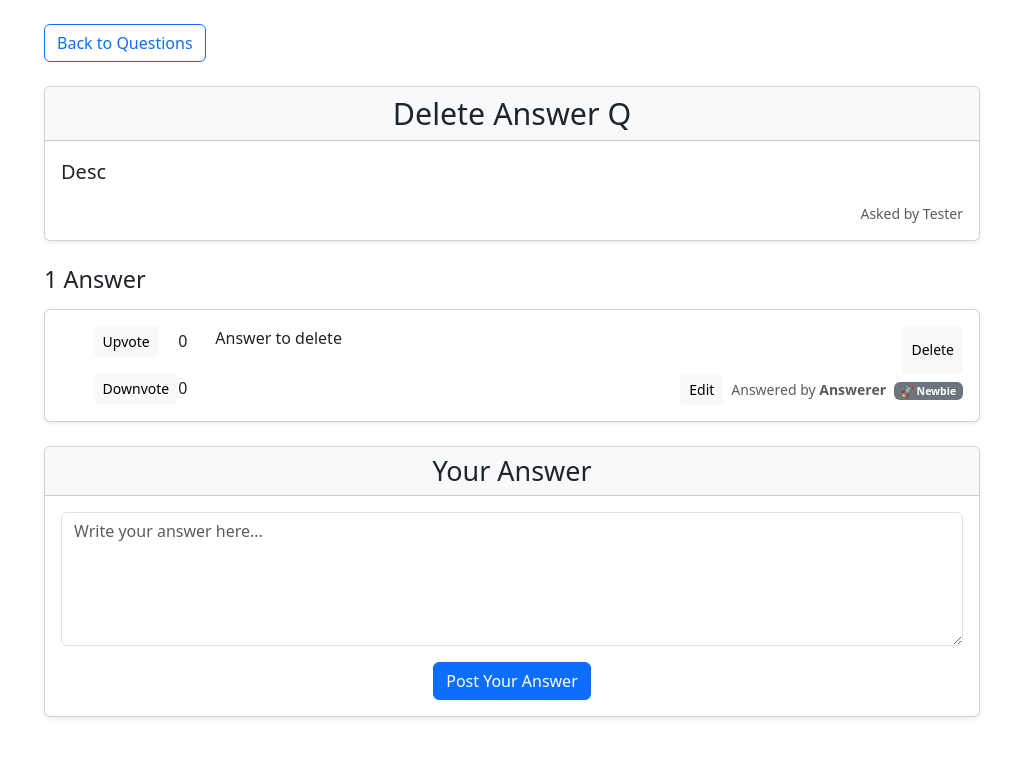
Test: Answer Component › deletes an answer
expect the element with test id "answer-card-1" is shown: met, box [44,309,980,422]
Click the button "Delete" at x=933, y=350, box [902,326,963,374]
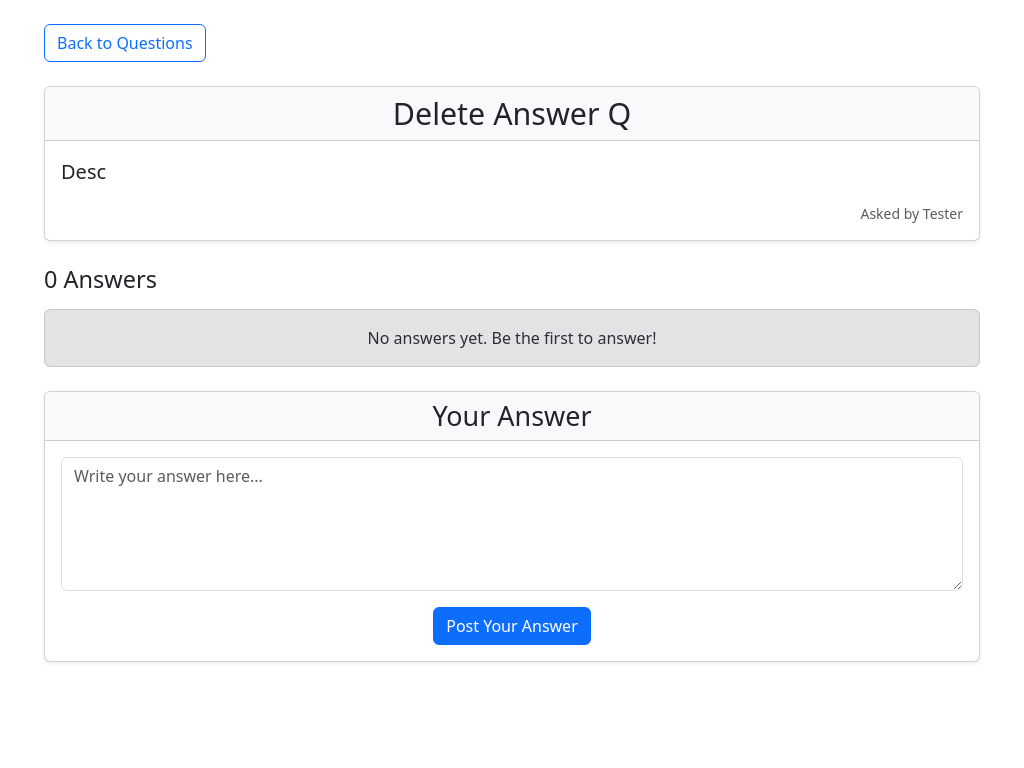
expect the element with test id "answer-card-1" is gone: met
